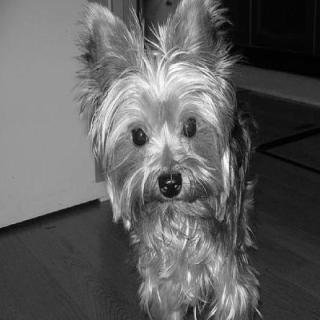dog: (74, 0, 249, 223)
nose: (155, 170, 183, 198)
